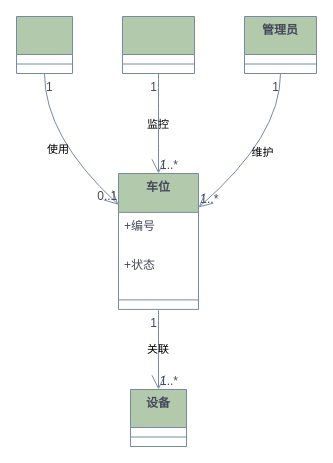
Some shapes in this 333 by 463 pixel diagram are drawn without their labels. Each missing label, with the box of its shape:
值班员: (122, 16, 194, 74)
用户: (16, 16, 72, 74)
